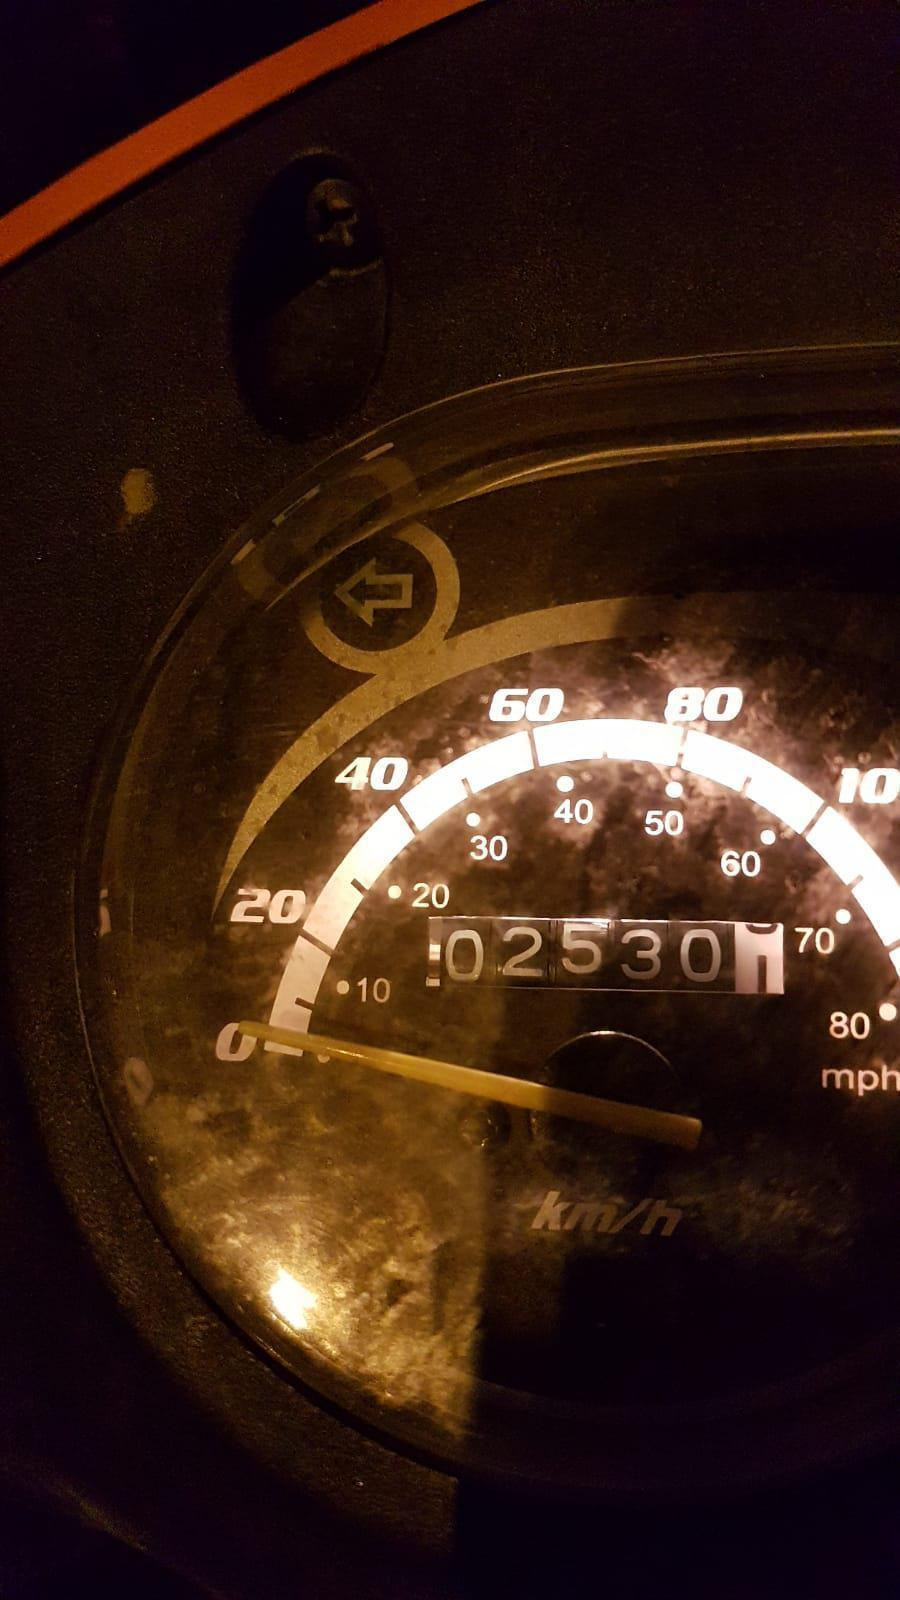0: (676, 925, 725, 984), (442, 927, 487, 985)
1: (741, 942, 776, 997)
2: (500, 924, 547, 982)
3: (618, 923, 662, 982)
5: (560, 919, 605, 977)
odometer: (425, 912, 793, 1003)
